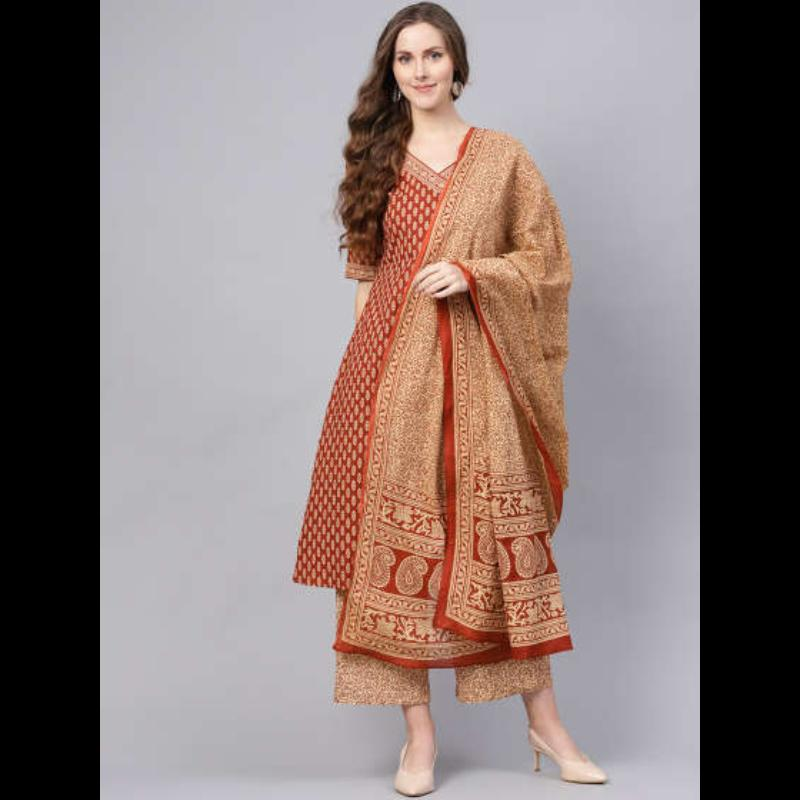Churidaar: (341, 118, 571, 710)
